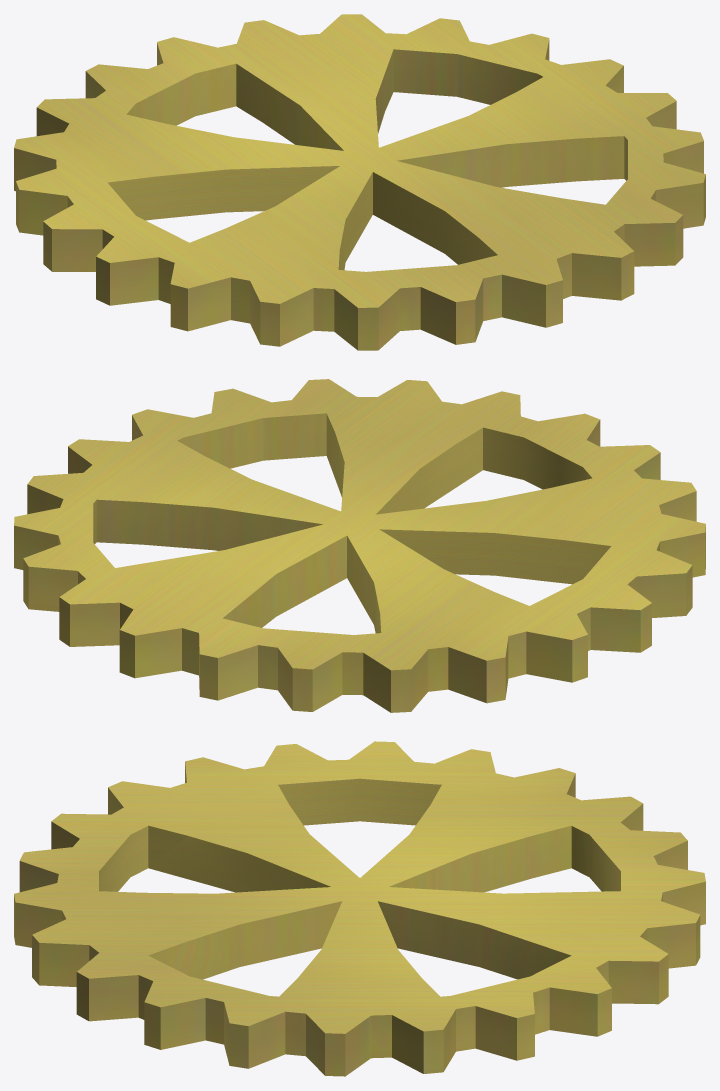
The model's file is Cog5Spoke022.fbx.
3 renders of one model, top to bottom at view 1: azimuth 30°, elevation 25°; view 2: azimuth 150°, elevation 25°; view 3: azimuth 270°, elevation 25°, orthographic.
Visible parts, largest first — view 1: Cog5Spoke022; view 2: Cog5Spoke022; view 3: Cog5Spoke022.
Part boxes in pixels (x1=…): Cog5Spoke022: x1=14, y1=14, x2=705, y2=350; Cog5Spoke022: x1=14, y1=379, x2=705, y2=712; Cog5Spoke022: x1=14, y1=741, x2=705, y2=1076.
Bounding box in the file's own units: 215 × 14.59 × 215.
